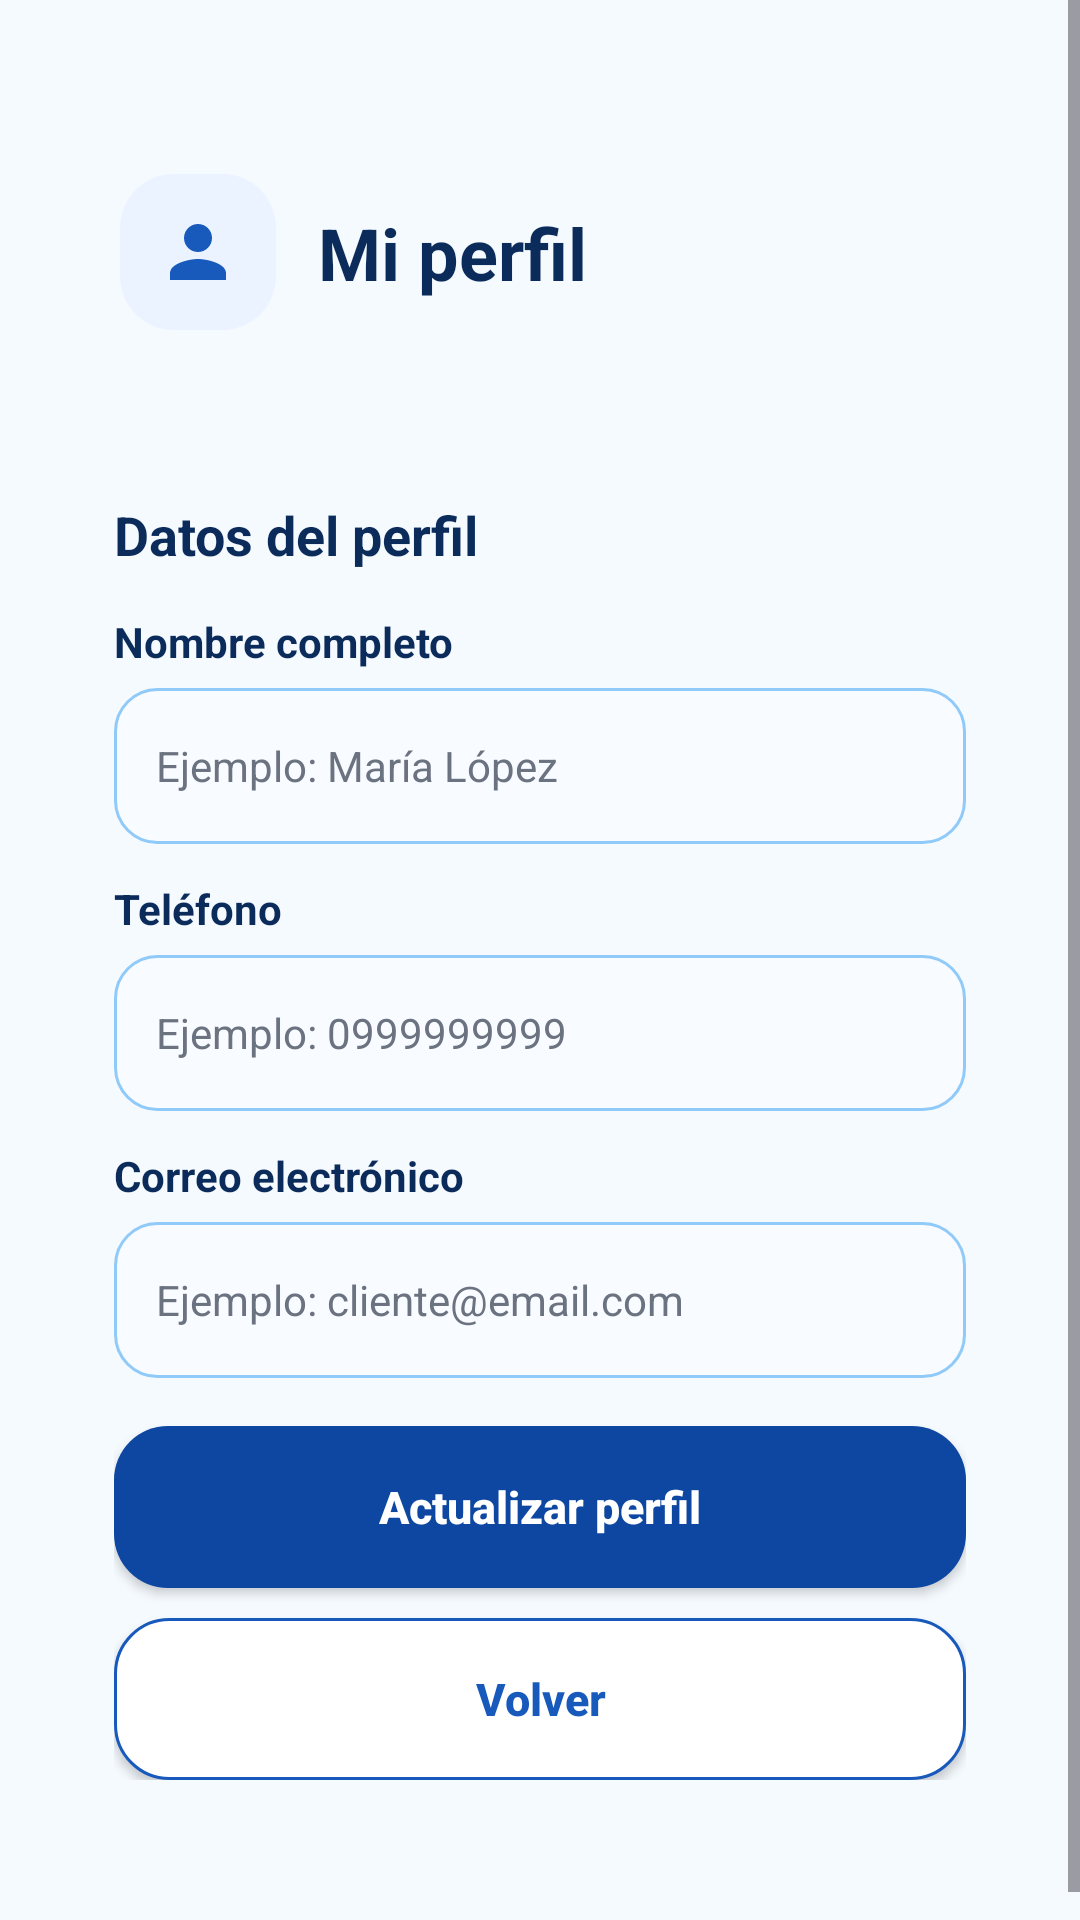

Named icons in this screenshot (1080px x 1920px) and their centers, (x,y):
profile moderno: (198,252)
